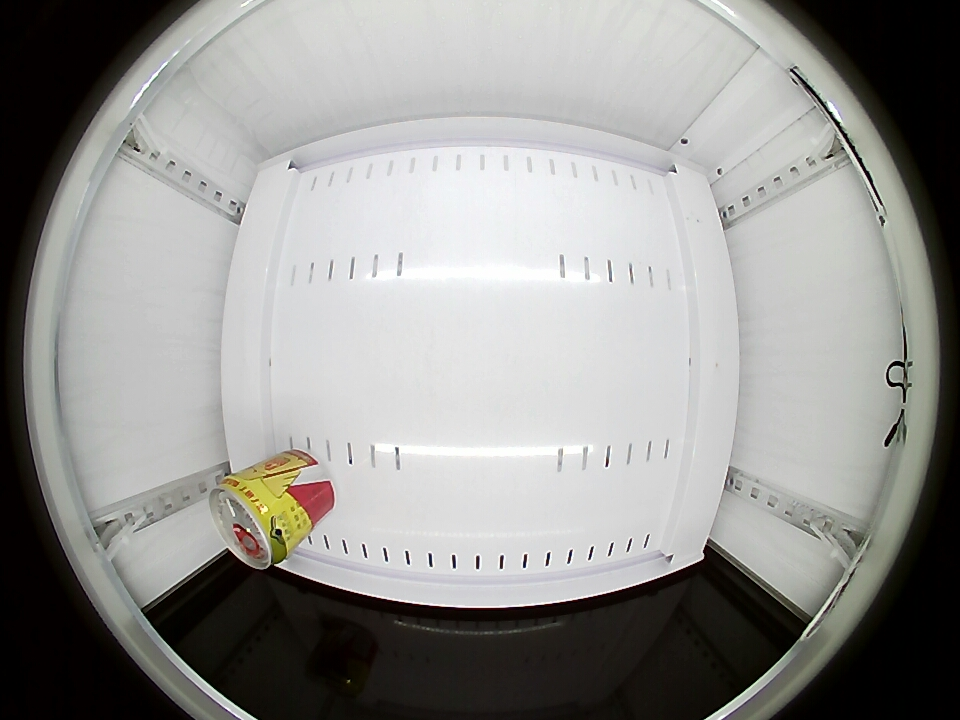dongpeng: (208, 473, 294, 570)
